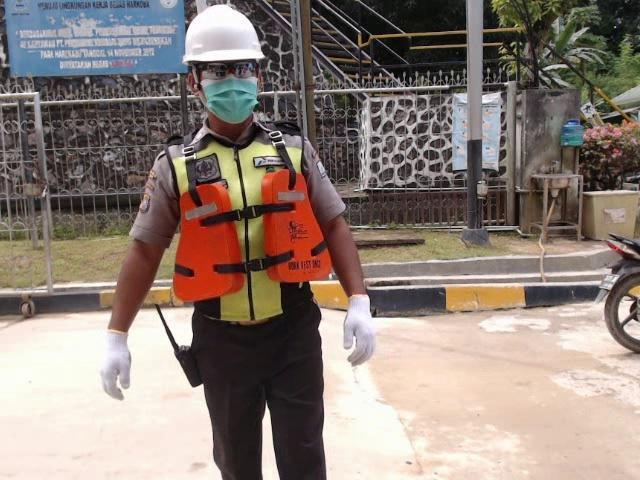vest: (164, 173, 338, 302)
